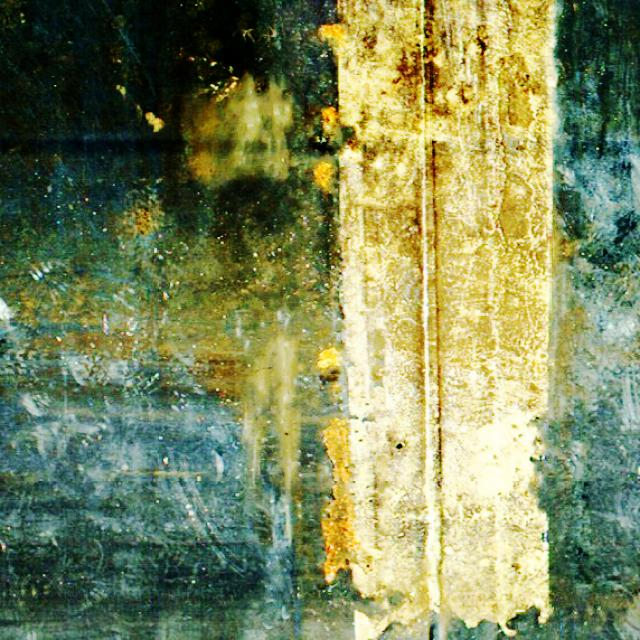Corrosion: (322, 417, 360, 584), (316, 347, 343, 370), (320, 24, 346, 44), (314, 162, 332, 188), (322, 107, 337, 124), (331, 383, 343, 393)
